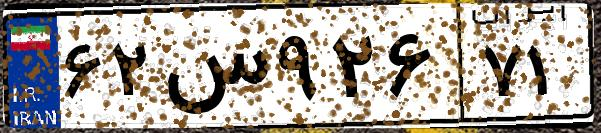1: (525, 38, 570, 115)
2: (330, 28, 385, 110), (110, 28, 158, 98)
6: (385, 28, 445, 110), (57, 26, 110, 100)
7: (475, 38, 525, 113)
9: (270, 28, 330, 110)
س: (158, 20, 270, 120)
